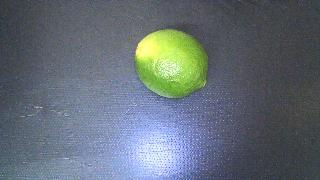EXPORTACION: (135, 30, 208, 98)
